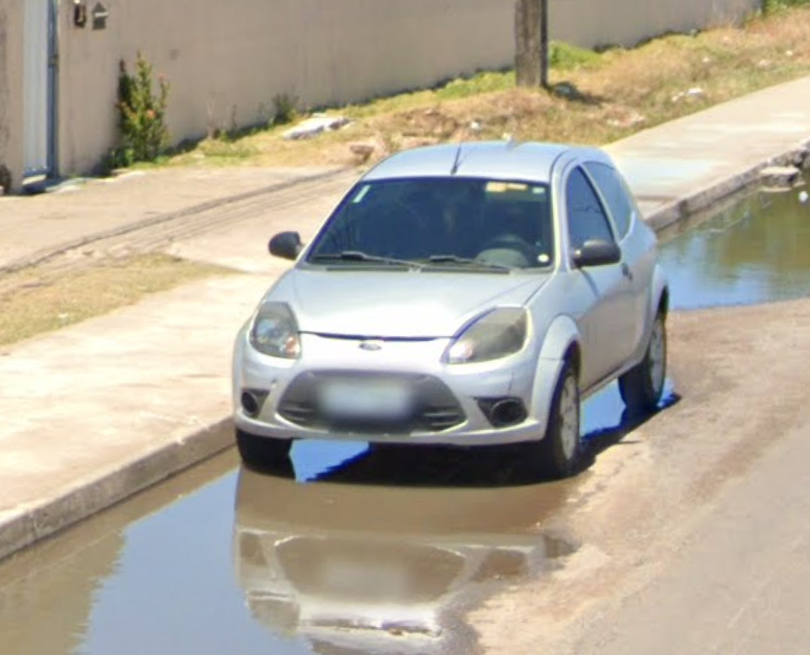car: (222, 127, 673, 486)
